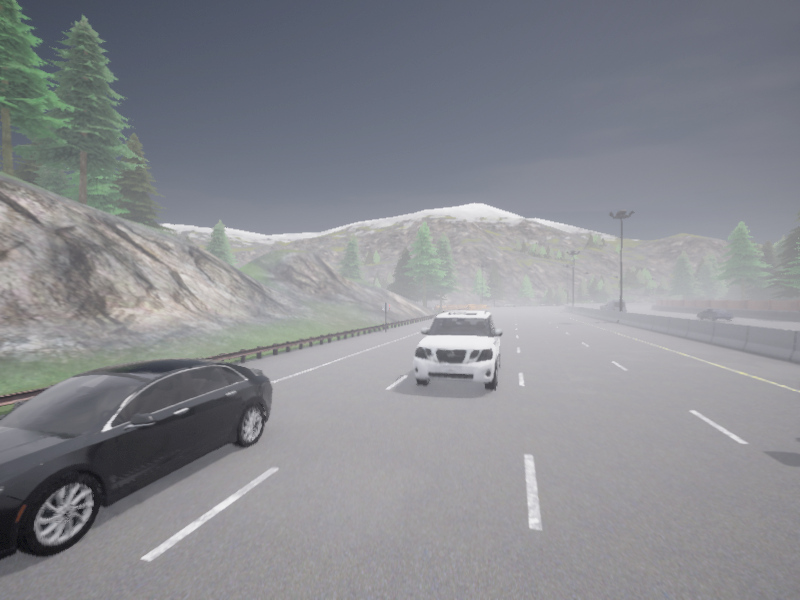vehicle: (0, 357, 273, 559), (413, 310, 502, 389), (697, 309, 733, 320), (606, 299, 626, 311), (600, 304, 606, 309)
